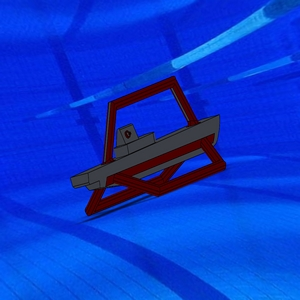submarine: (70, 72, 237, 221)
